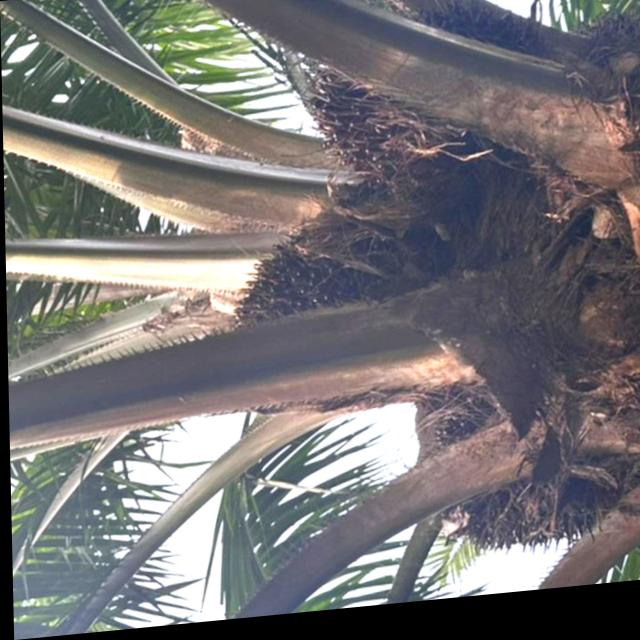unripe: (220, 205, 459, 438)
